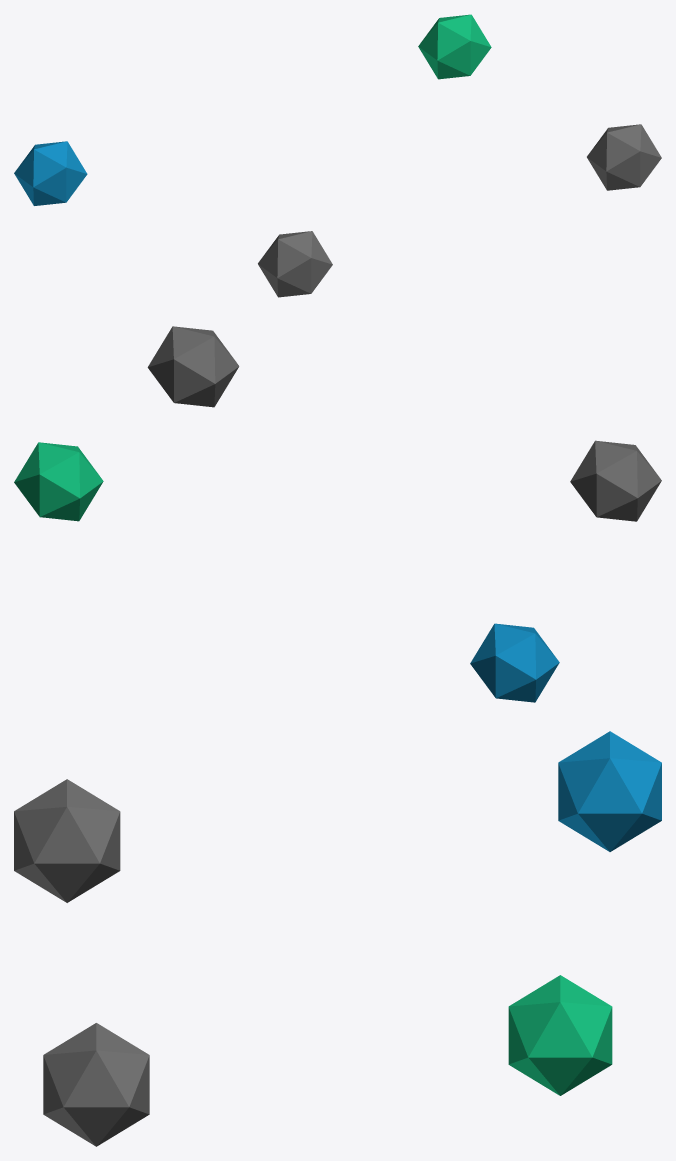
3 renders of one model, top to bottom at view 1: azimuth 30°, elevation 25°; view 2: azimuth 150°, elevation 25°; view 3: azimuth 270°, elevation 25°, orthographic. The views are drawn at different scales.
Parts seen in each view (by area): view 1: 06_05_00; view 2: 06_05_00; view 3: 06_05_00.
Boxes of the visible parts, left/top/right/bottom form: 06_05_00: left=14, top=14, right=661, bottom=297; 06_05_00: left=14, top=326, right=661, bottom=702; 06_05_00: left=14, top=731, right=661, bottom=1146.
Size of the model in its own units: 0.4738 by 0.0952 by 0.3387.
